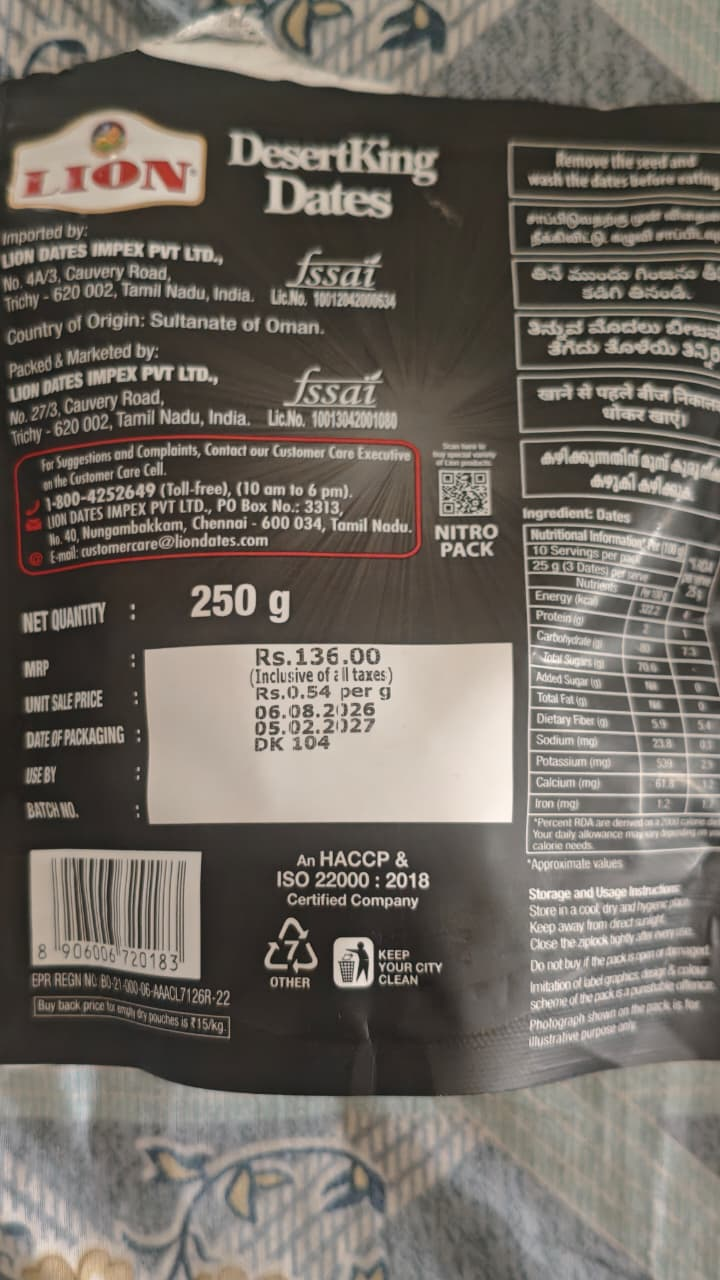EXP_Date: (248, 718, 396, 743)
Ingredients: (526, 502, 720, 864)
MFG_Date: (236, 694, 396, 721)
MRP: (248, 642, 402, 669)
Product: (5, 119, 474, 232)
